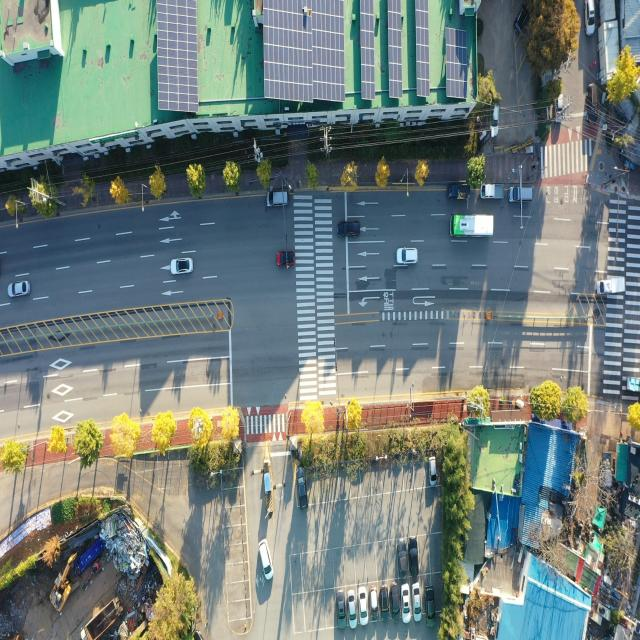car: (512, 4, 532, 37), (261, 541, 274, 581), (587, 84, 598, 125), (508, 187, 533, 205), (338, 220, 362, 238), (488, 98, 499, 137), (395, 247, 418, 265), (426, 585, 436, 626), (410, 537, 420, 577), (172, 259, 194, 277), (8, 280, 30, 298), (268, 191, 290, 209), (587, 1, 597, 38), (358, 586, 367, 626), (348, 590, 357, 628), (276, 250, 296, 267), (338, 591, 347, 628), (398, 541, 407, 576), (414, 584, 422, 622), (401, 585, 409, 622), (381, 586, 390, 618), (297, 466, 306, 498), (391, 586, 399, 620), (429, 455, 438, 485), (554, 93, 562, 122), (369, 588, 377, 615)
large_bus: (449, 213, 494, 238)
medium_truck: (81, 598, 127, 640)
small_truck: (597, 276, 626, 297), (601, 451, 613, 491), (480, 181, 504, 200), (448, 182, 470, 200)
